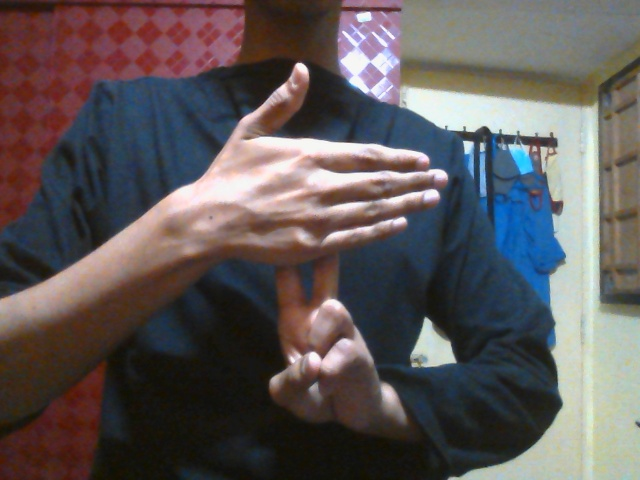N: (216, 61, 450, 431)
